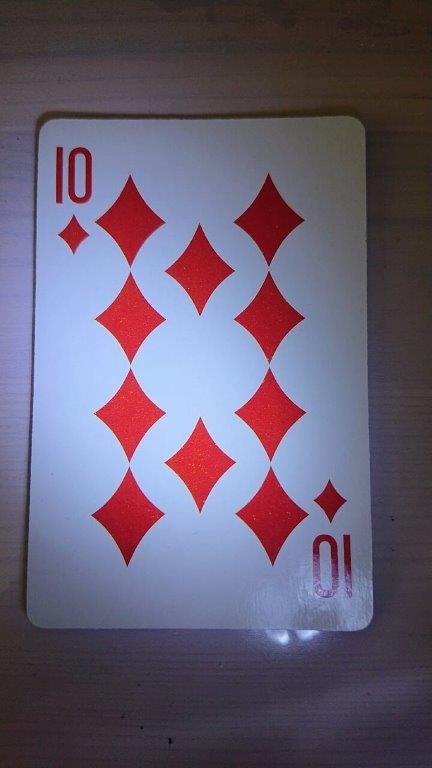10D: (22, 113, 376, 633)
